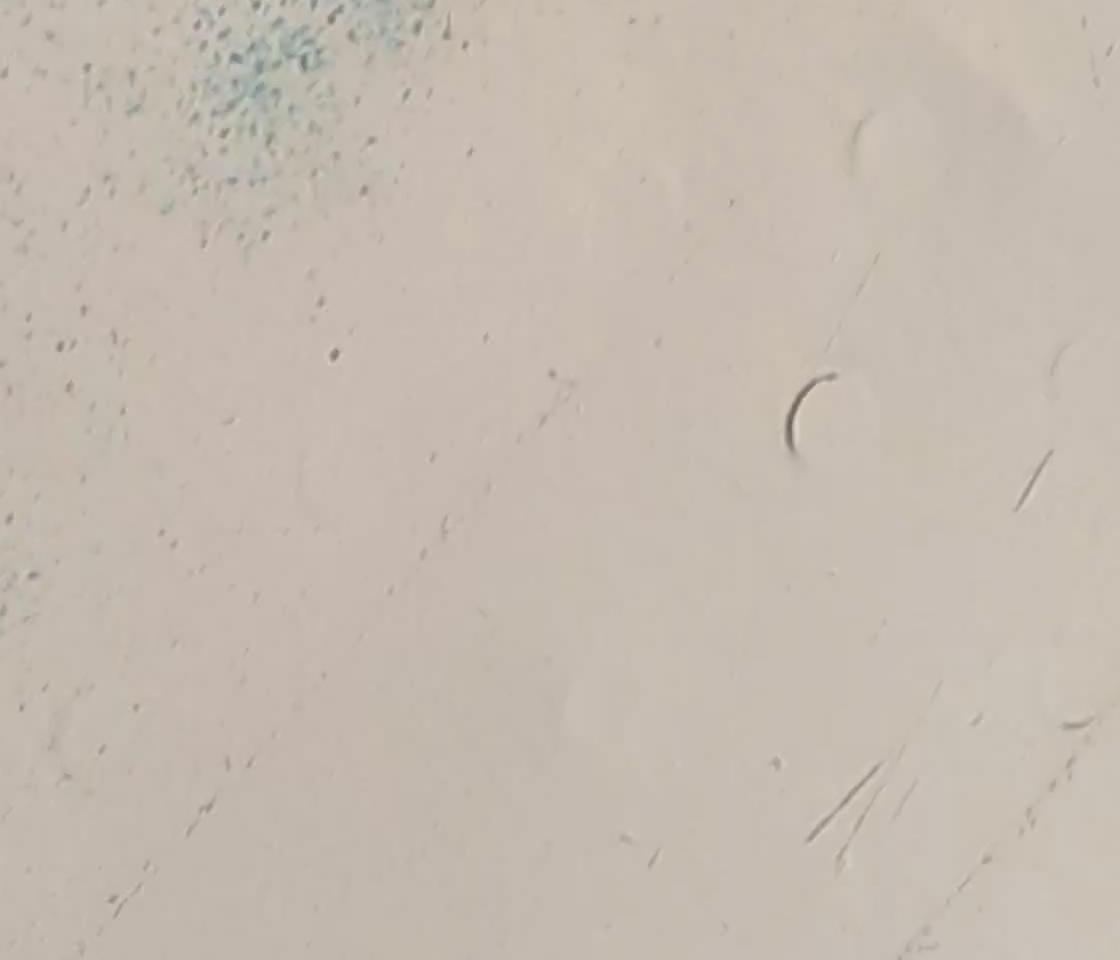scratch: (796, 757, 883, 845), (768, 361, 838, 452), (1011, 446, 1059, 515)
